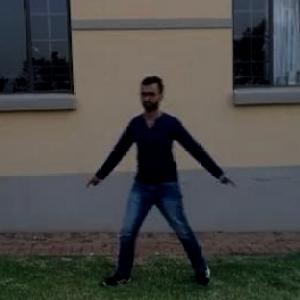land: (89, 78, 227, 270)
